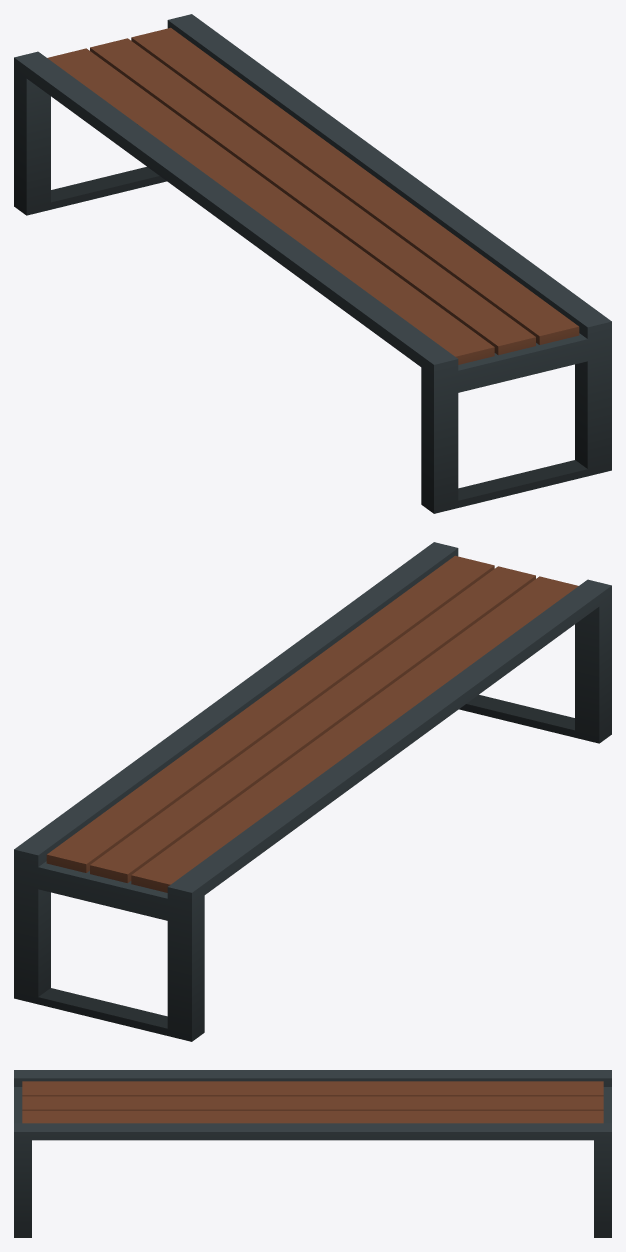
The model's file is BangkuTaman.fbx.
3 renders of one model, top to bottom at view 1: azimuth 30°, elevation 25°; view 2: azimuth 150°, elevation 25°; view 3: azimuth 270°, elevation 25°, orthographic. The views are drawn at different scales.
Visible parts, largest first — view 1: BangkuTaman_LOD0; view 2: BangkuTaman_LOD0; view 3: BangkuTaman_LOD0.
Boxes of the visible parts, x1=… form: BangkuTaman_LOD0: x1=14, y1=14, x2=611, y2=513; BangkuTaman_LOD0: x1=14, y1=542, x2=611, y2=1041; BangkuTaman_LOD0: x1=14, y1=1070, x2=611, y2=1237.
Size of what is drawn, in the model's own units: 68.68 by 54.95 by 281.
